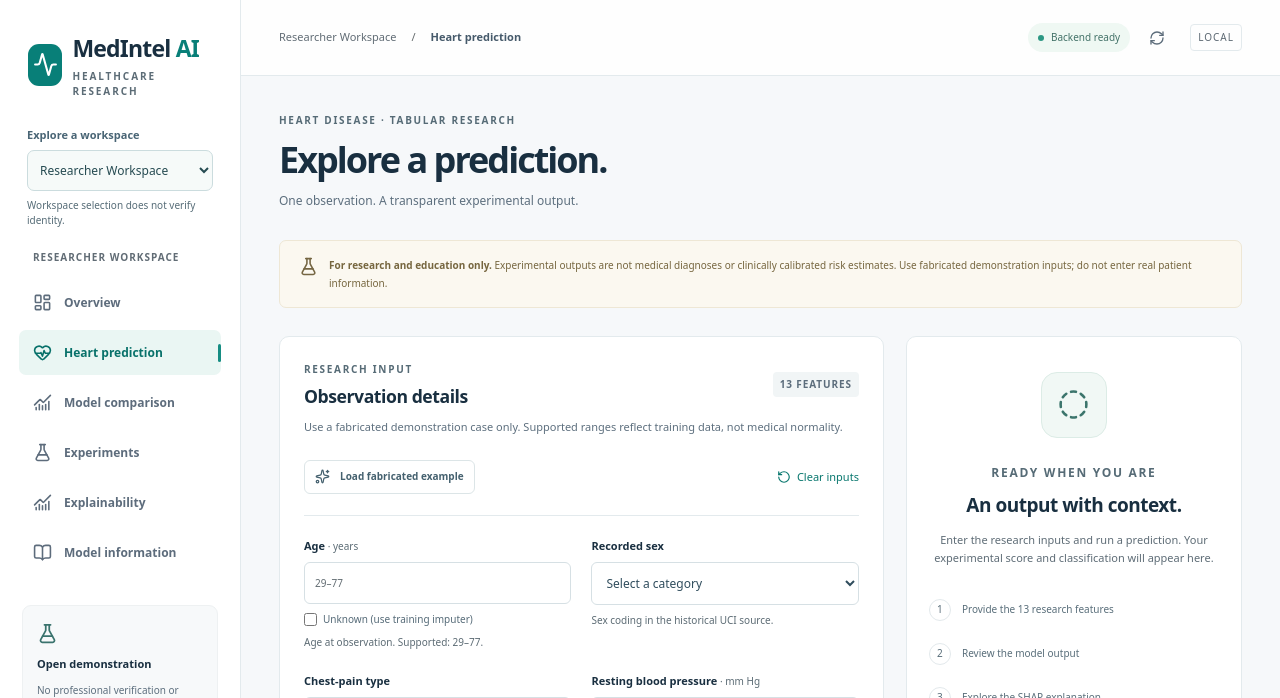
Test case: research workspace › sends explicit unknown measurements as null without converting categorical zero
Click the button "Load fabricated example" at (389, 477), box x1=304 y1=460 x2=475 y2=494
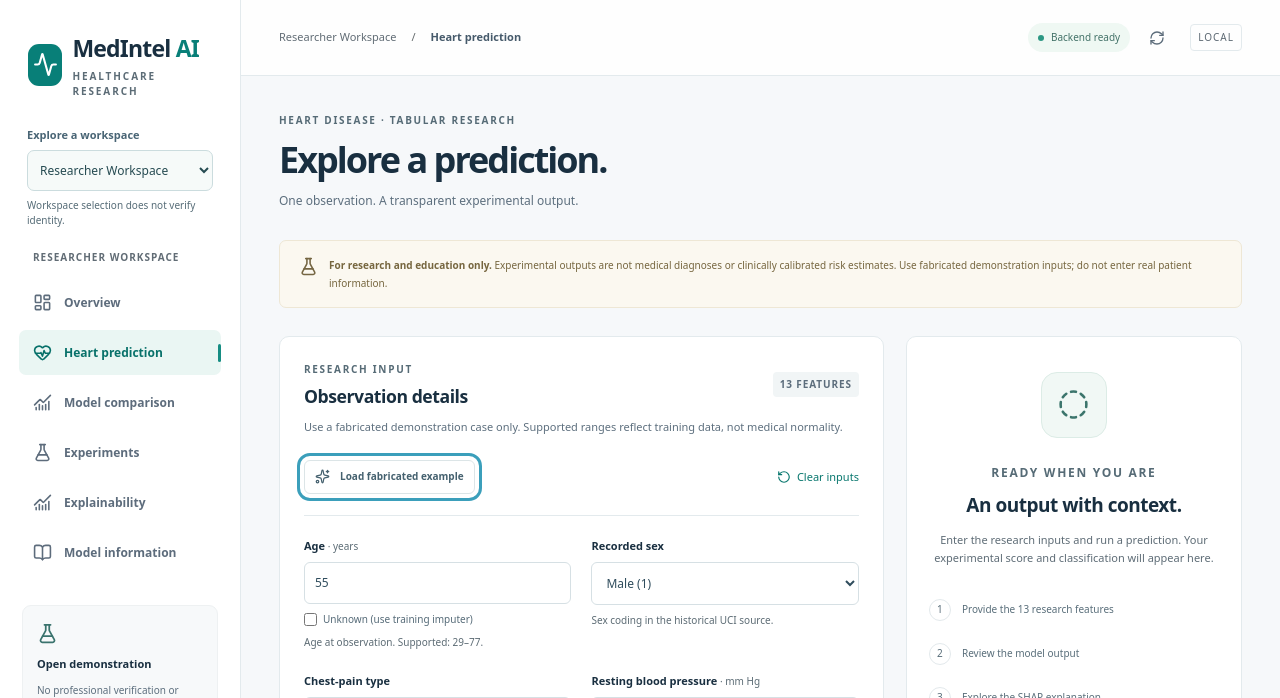
Click the checkbox labelled "Unknown (use training imputer)" at (310, 620), box x1=304 y1=613 x2=317 y2=626
(page scrolled)
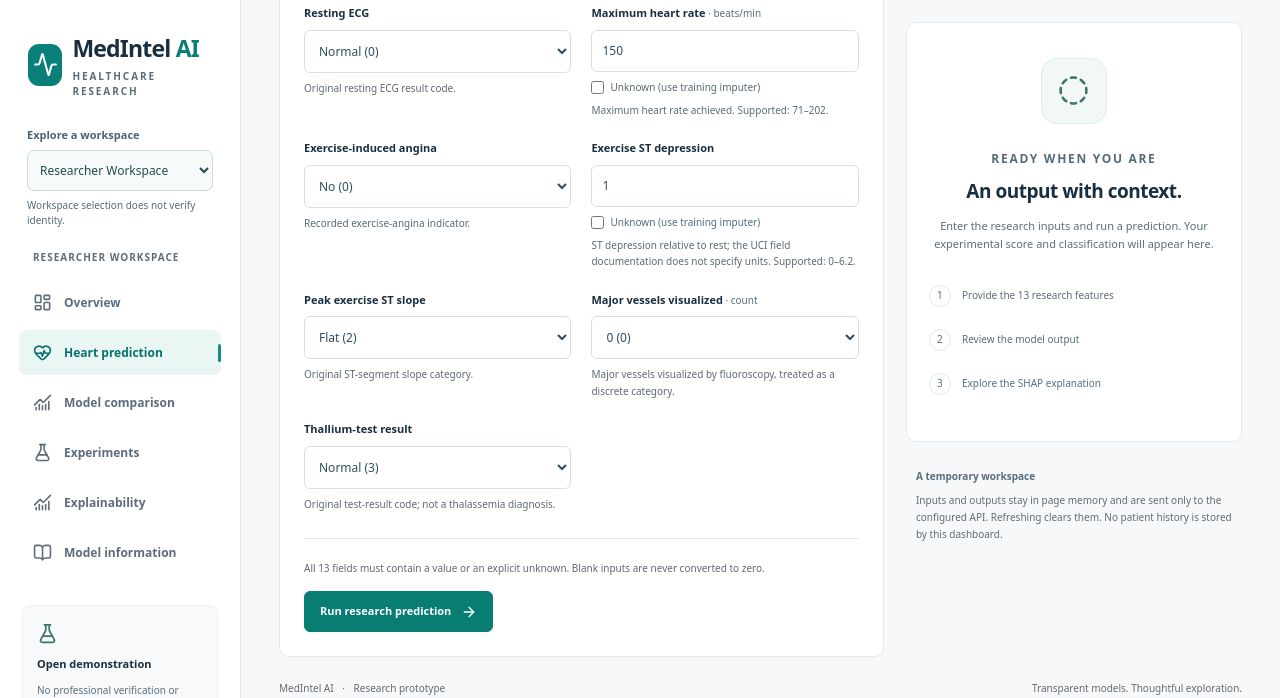
Click the button "Run research prediction" at (399, 612), box x1=304 y1=591 x2=493 y2=632
(page scrolled)
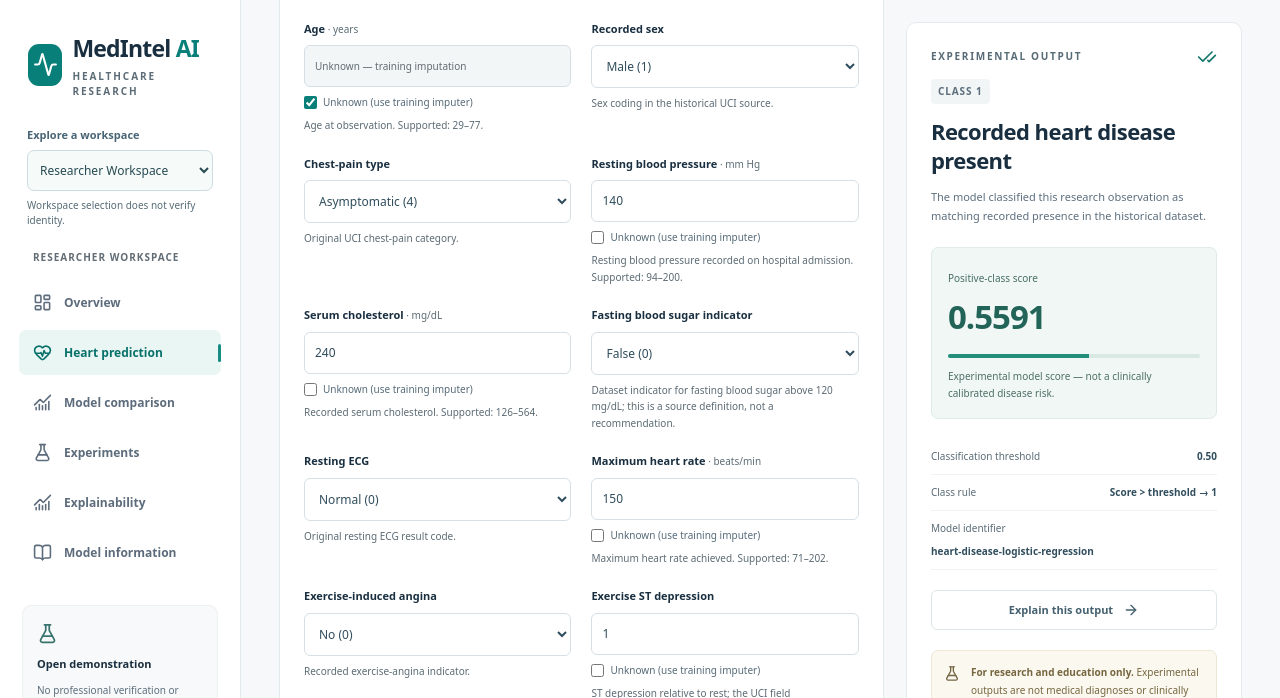
Now the heading "Recorded heart disease present" is shown, box x1=931 y1=117 x2=1217 y2=176
